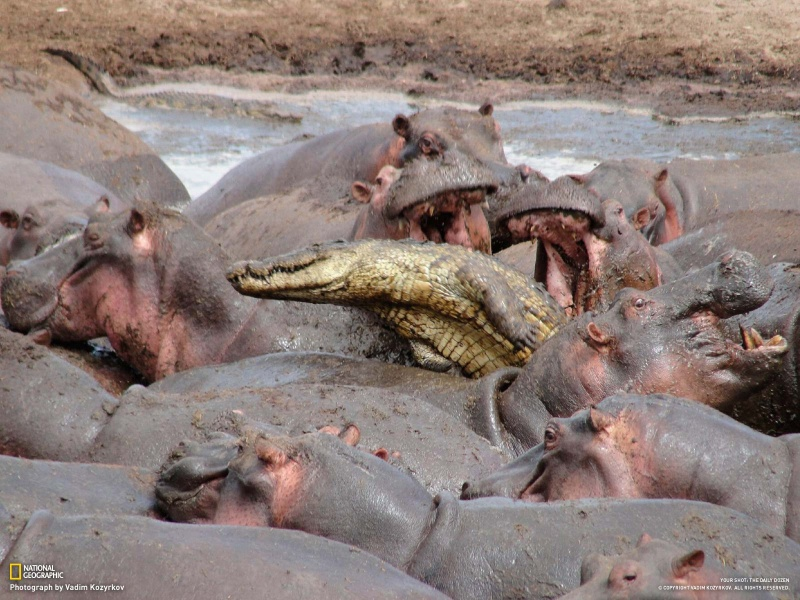hipopotamo: (148, 413, 572, 595), (458, 383, 800, 527), (503, 248, 800, 411), (2, 195, 260, 378), (503, 164, 681, 318), (338, 152, 513, 274), (349, 94, 543, 191), (543, 524, 742, 600)
